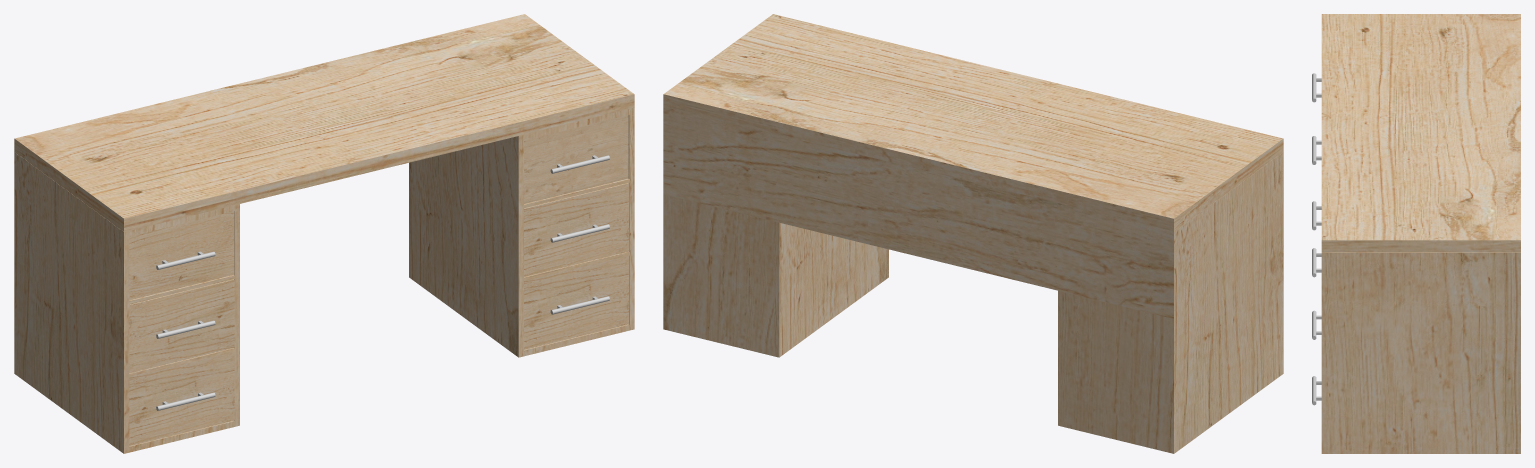
File: Escritorio.fbx
The picture shows the model from 3 angles, left to right: view 1: azimuth 30°, elevation 25°; view 2: azimuth 150°, elevation 25°; view 3: azimuth 270°, elevation 25°; orthographic projection. The views are drawn at different scales.
Parts seen in each view (by area): view 1: Cube.013, Cajon_3, Cajon_2.001, Cajon_6, Cajon_5, Cajon_1, Cajon_4; view 2: Cube.013; view 3: Cube.013.
Part boxes in pixels (box(x1,y1,x2,y2)): Cube.013: box(14, 14, 634, 453); Cajon_3: box(129, 352, 234, 445); Cajon_2.001: box(129, 279, 234, 373); Cajon_6: box(524, 255, 628, 349); Cajon_5: box(524, 183, 628, 276); Cajon_1: box(129, 211, 234, 300); Cajon_4: box(524, 115, 628, 203); Cube.013: box(663, 14, 1283, 453); Cube.013: box(1321, 14, 1520, 453).
Size of the model in its own units: 1622 by 714 by 632.
